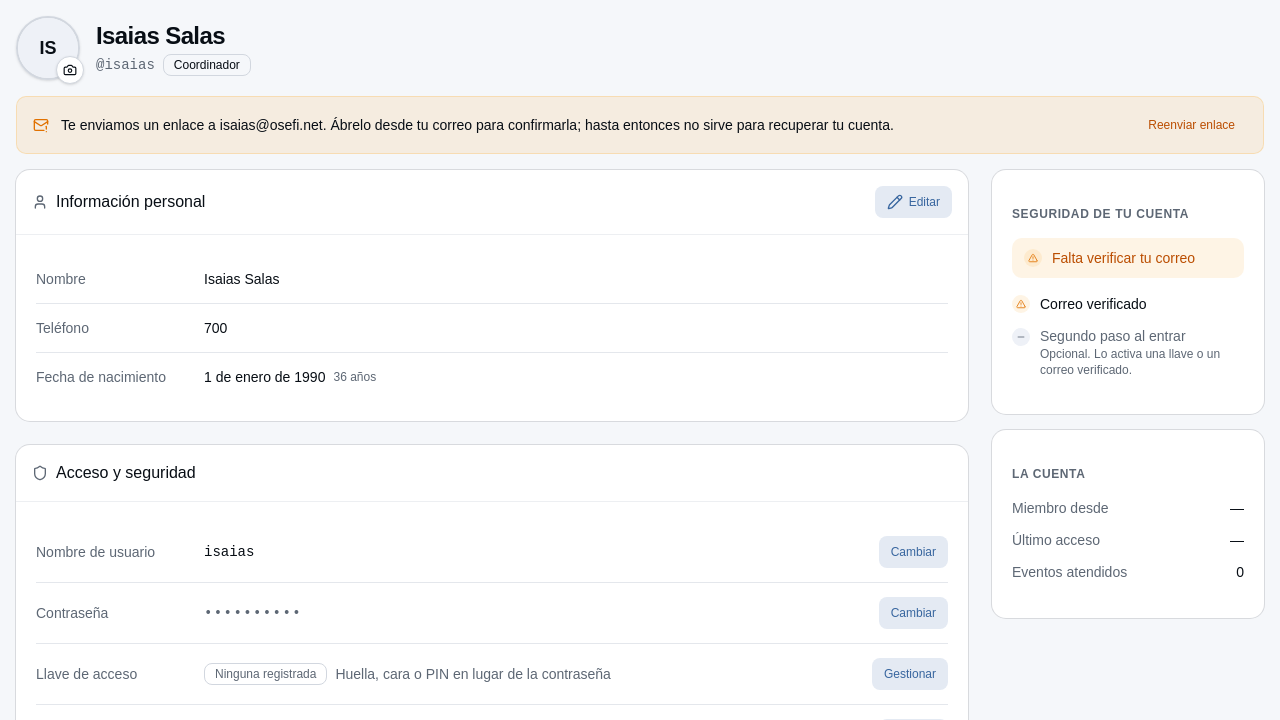
Scenario: the recovery-address banner › with an unverified address, names it, says to open the link, and offers to resend
Expected: the text "Te enviamos un enlace a isaias@osefi.net. Ábrelo desde tu correo para confirmarla; hasta entonces no sirve para recupera" is shown, [61, 117, 894, 133]
Click the button "Reenviar enlace": [1192, 125] box [1136, 109, 1247, 141]
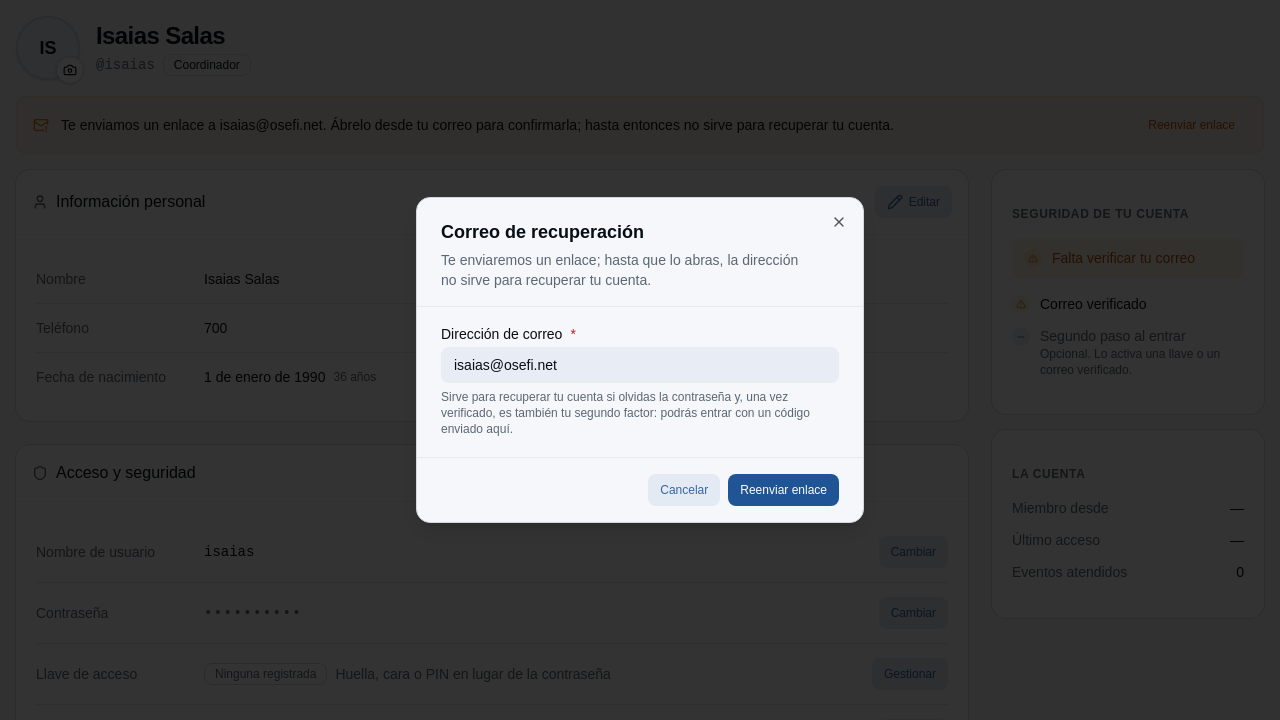
Expected: the field labelled "Dirección de correo *" holds "isaias@osefi.net", [441, 347, 839, 383]
